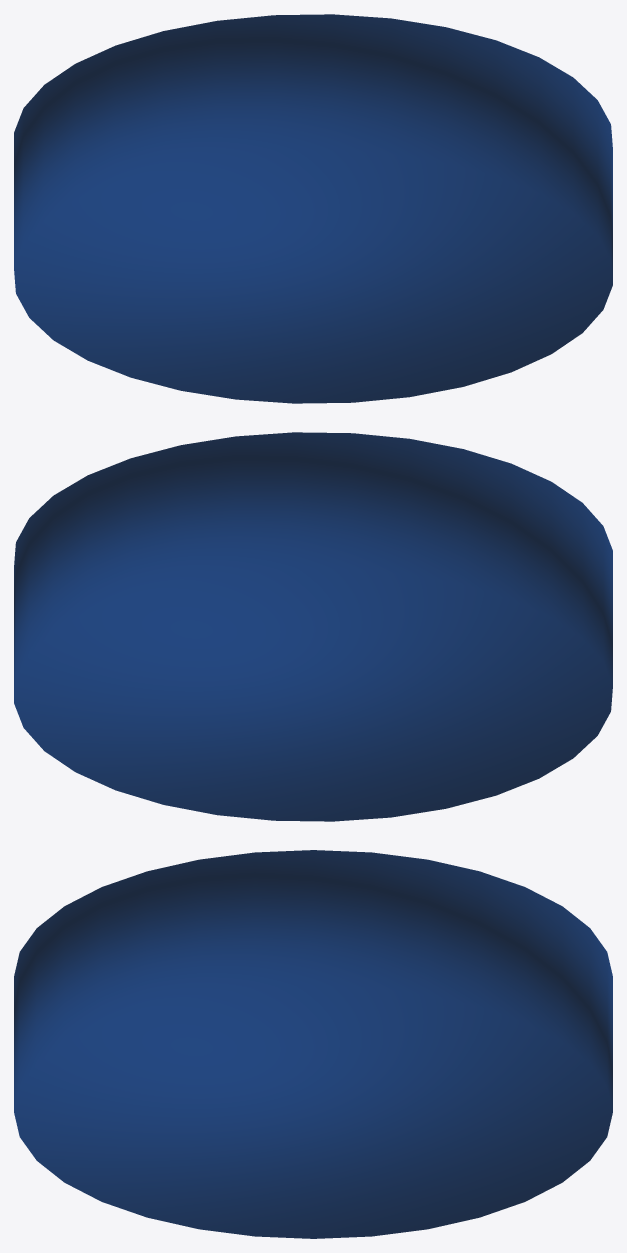
The model's file is background.glb.
3 renders of one model, top to bottom at view 1: azimuth 30°, elevation 25°; view 2: azimuth 150°, elevation 25°; view 3: azimuth 270°, elevation 25°, orthographic.
Parts seen in each view (by area): view 1: Cylinder; view 2: Cylinder; view 3: Cylinder.
Boxes of the visible parts, bbox=[...] form: Cylinder: bbox=[14, 14, 612, 403]; Cylinder: bbox=[14, 432, 612, 821]; Cylinder: bbox=[14, 850, 612, 1238].
Bounding box in the file's own units: 134 × 33.44 × 134.
